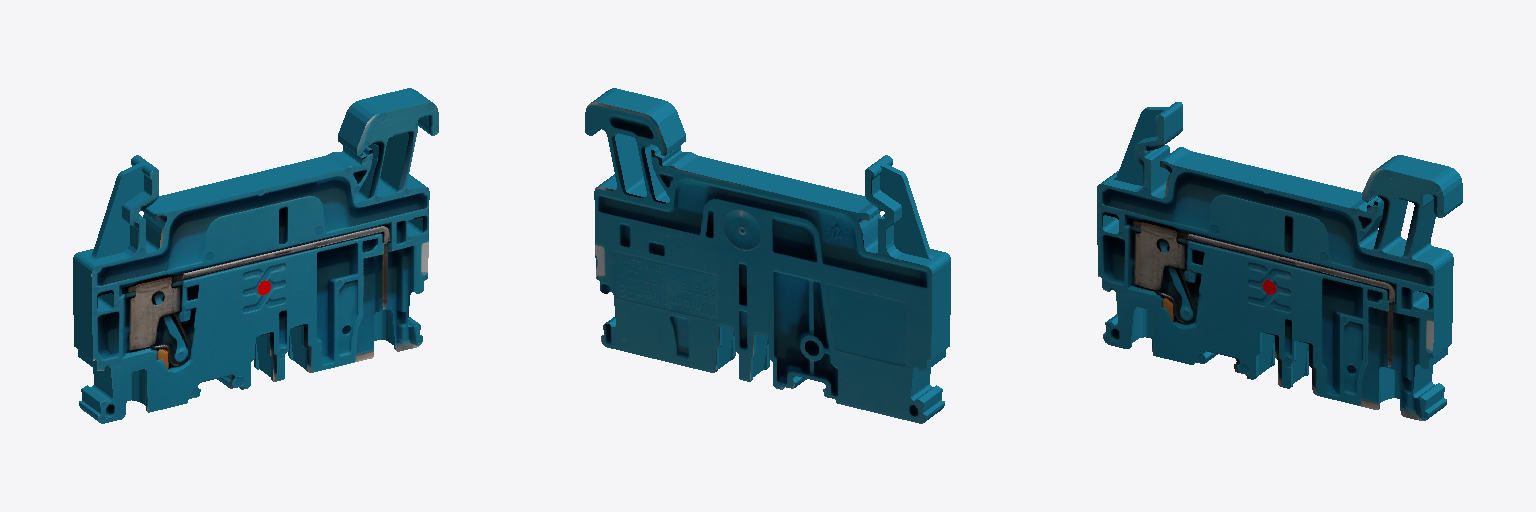
3 views of the same model, side by side, from view 1: azimuth 30°, elevation 25°; view 2: azimuth 150°, elevation 25°; view 3: azimuth 330°, elevation 25° (orthographic).
Visible parts, largest first — view 1: [number redacted]_[number redacted].002; view 2: [number redacted]_[number redacted].002; view 3: [number redacted]_[number redacted].002.
Part boxes in pixels (left/top/right/bottom): [number redacted]_[number redacted].002: left=73, top=88, right=438, bottom=423; [number redacted]_[number redacted].002: left=585, top=88, right=950, bottom=423; [number redacted]_[number redacted].002: left=1097, top=102, right=1462, bottom=420.
Size of the model in its own units: 0.0542 by 0.0362 by 0.0051.
Materials: 1 (1 with a texture image).